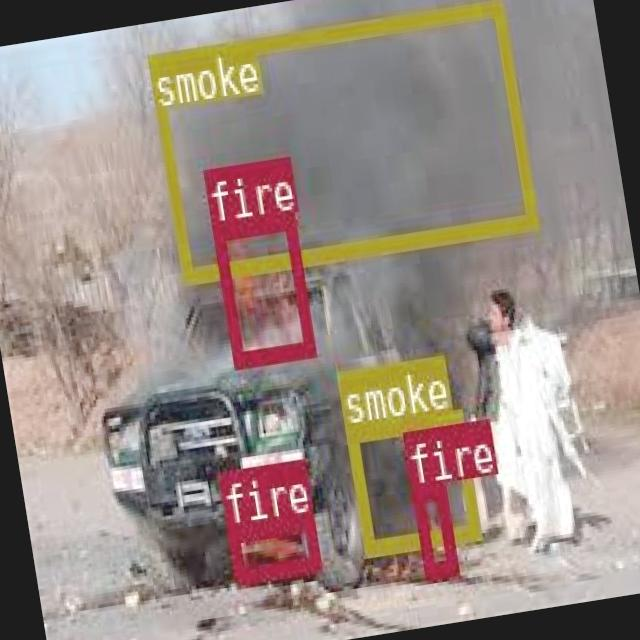fire: (211, 210, 313, 364), (224, 512, 319, 581), (411, 481, 456, 577)
smoke: (145, 0, 535, 280), (344, 407, 481, 555)
